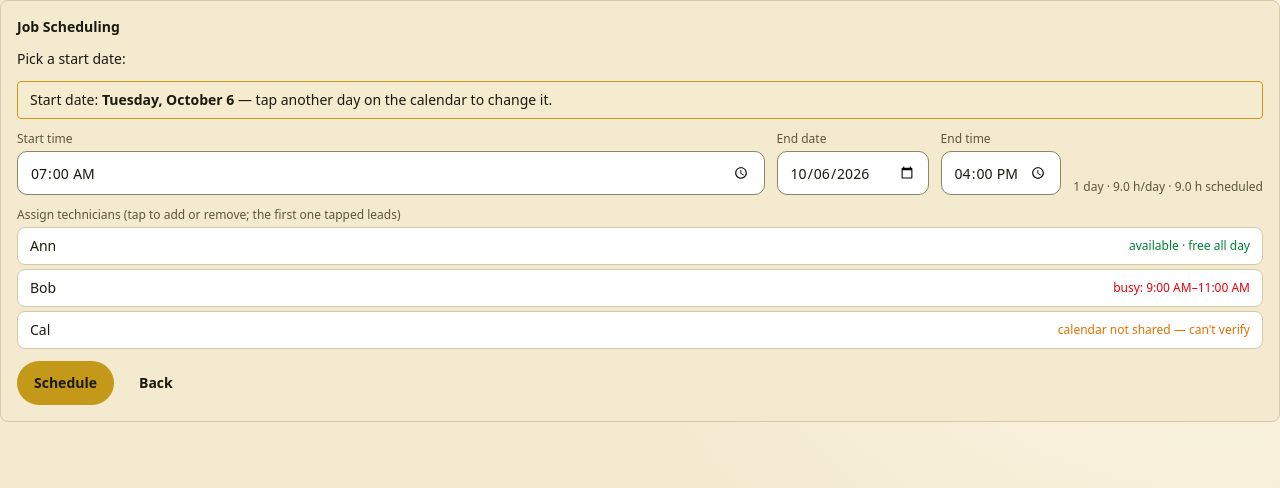
Test: Booking with a crew › keeps each tech's availability line and warns per selected tech who is double-booked
Expected: the text "available · free all day" is shown, [1129, 238, 1250, 254]
Expected: the text "busy: 9:00 AM–11:00 AM" is shown, [1113, 280, 1250, 296]
What coordinates should you click on to do the following:
click the button "Ann available · free all day"
I would click on:
 (1190, 246)
Its box is [17, 227, 1263, 265].
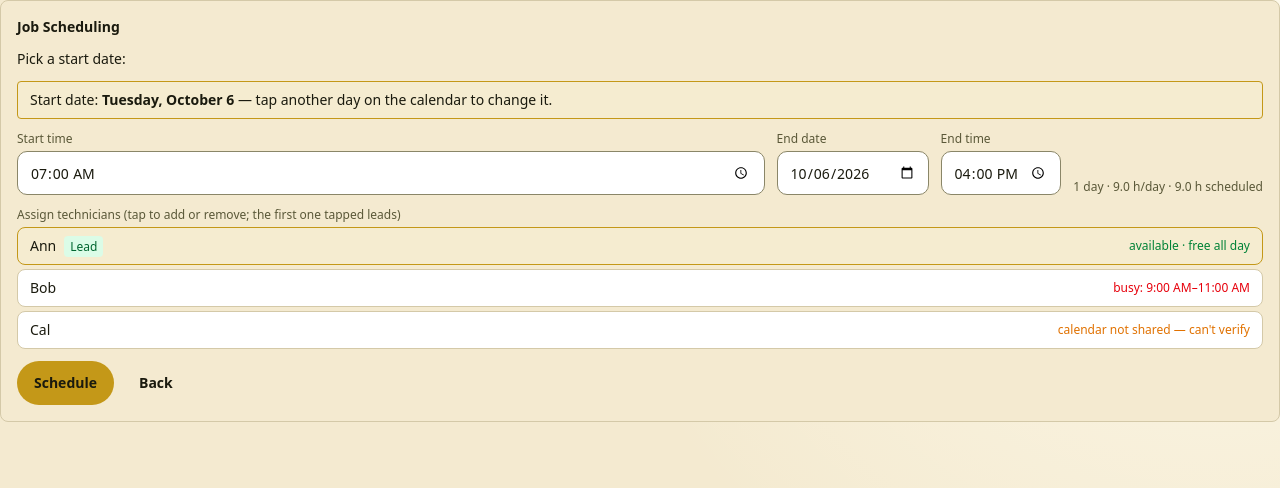
Expected: the text "has a conflict at that time" is not shown
What coordinates should you click on to do the following:
click the button "Bob busy: 9:00 AM–11:00 AM"
I would click on:
 (1182, 288)
Its box is [17, 269, 1263, 307].
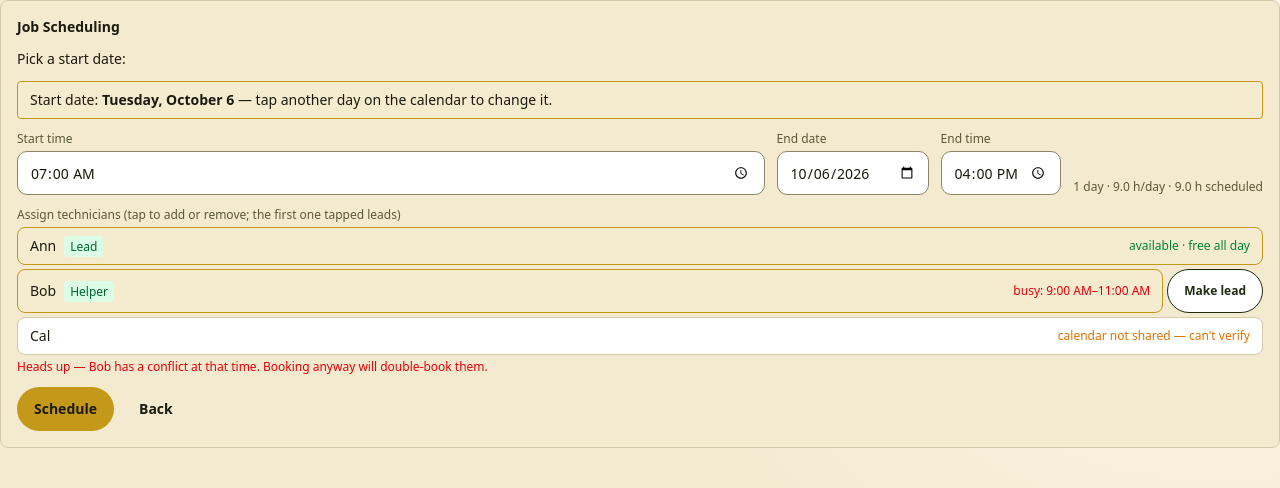
Expected: the text "Heads up — Bob has a conflict at that time" is shown, [17, 358, 488, 375]
